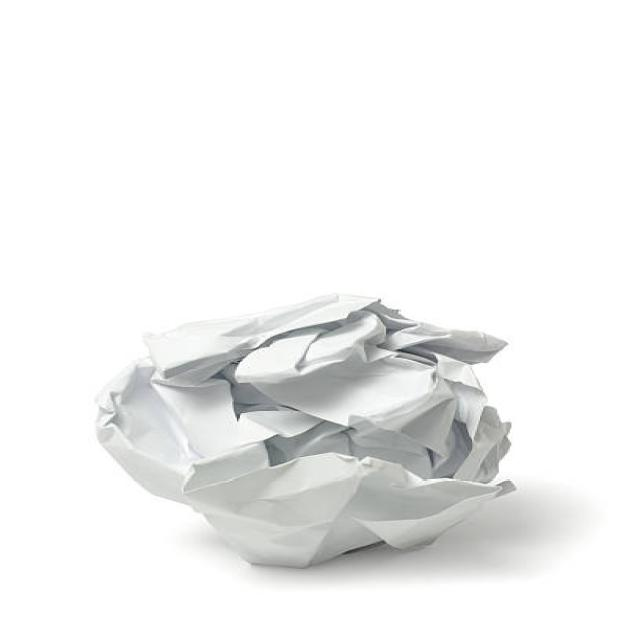paper: (110, 322, 557, 588)
